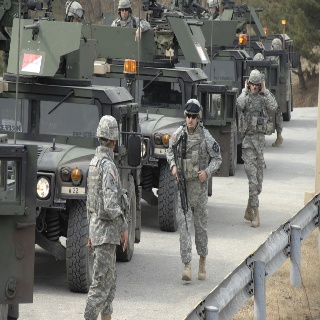rifle: (170, 143, 193, 232)
